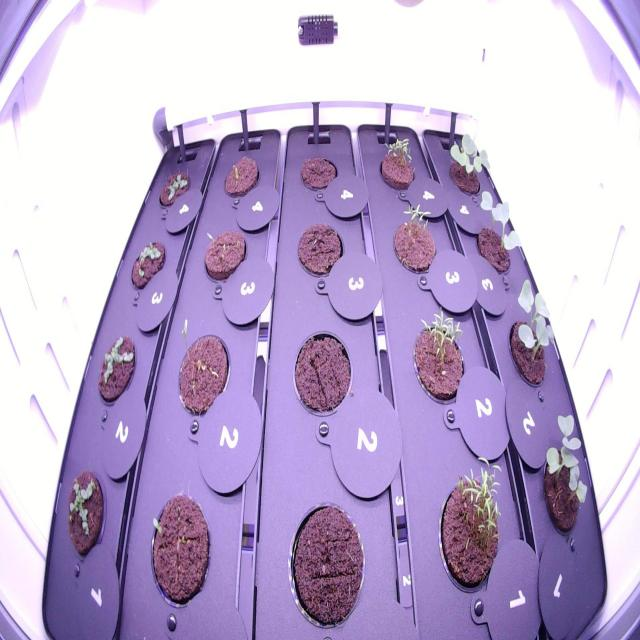germination: (431, 446, 506, 610), (140, 485, 213, 616), (534, 406, 596, 544), (165, 311, 235, 426), (407, 297, 469, 420), (503, 267, 560, 397), (62, 461, 111, 566), (384, 196, 441, 284), (473, 186, 524, 280), (93, 327, 140, 409), (198, 222, 250, 290), (446, 128, 494, 200), (372, 131, 420, 200), (124, 234, 168, 296), (215, 147, 262, 202), (154, 163, 196, 212)
pod: (282, 487, 369, 638), (288, 322, 356, 427), (291, 216, 347, 283), (294, 146, 341, 201)
